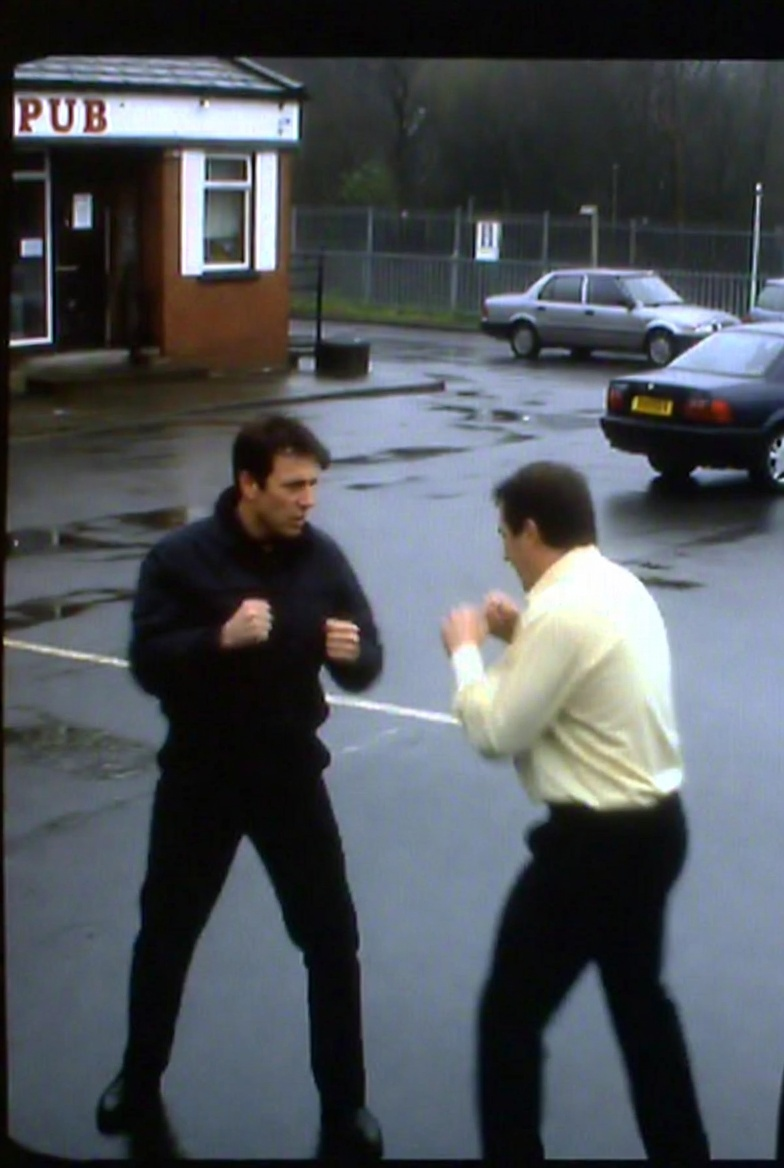Assault: (440, 462, 731, 1168)
Fighting: (94, 413, 392, 1165)
